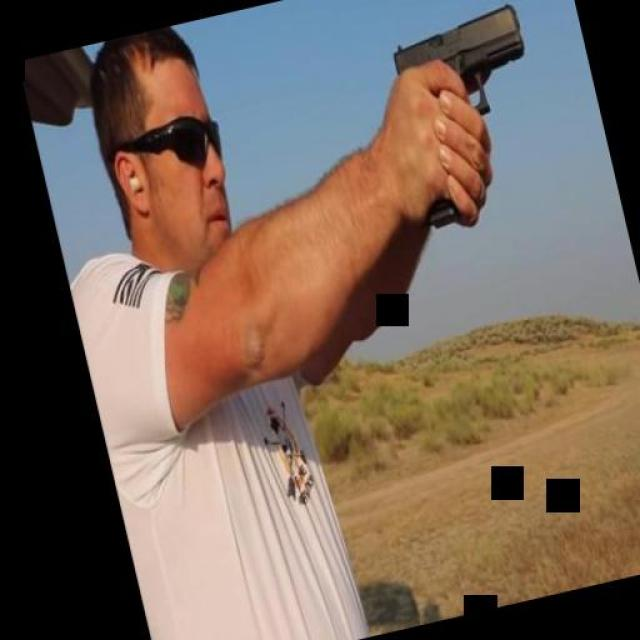gun: (382, 0, 559, 222)
